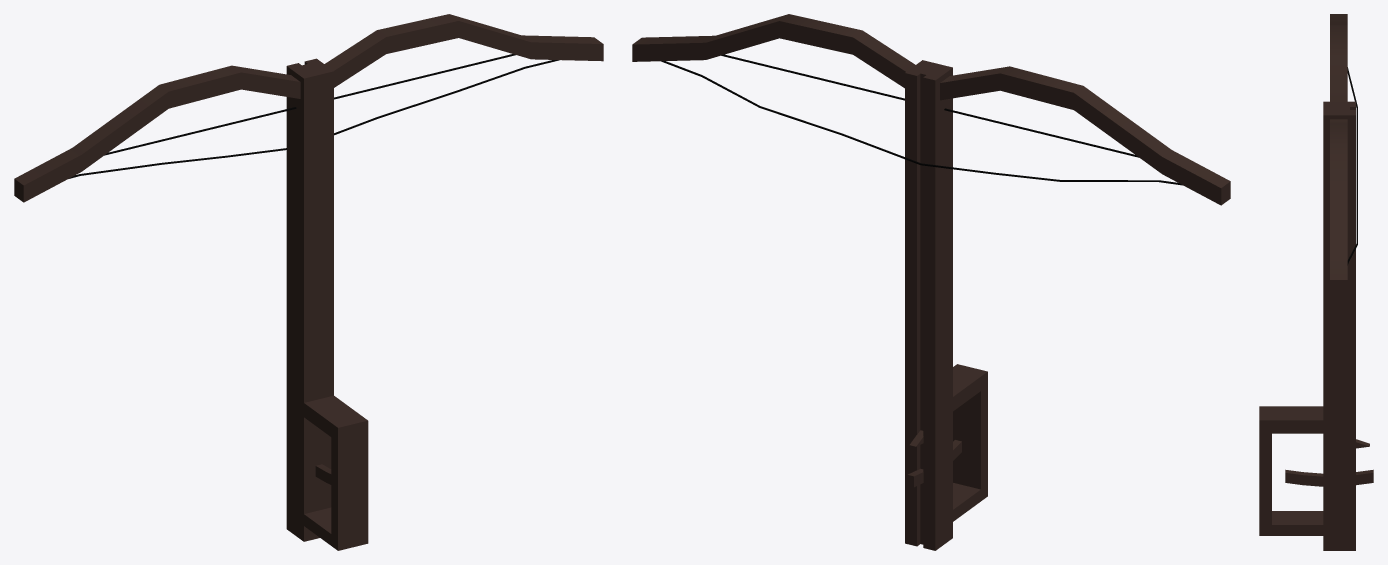
The picture shows the model from 3 angles, left to right: view 1: azimuth 30°, elevation 25°; view 2: azimuth 150°, elevation 25°; view 3: azimuth 270°, elevation 25°; orthographic projection. The views are drawn at different scales.
Visible parts, largest first — view 1: pCube4, pCube3, pCube8, pCube7; view 2: pCube4, pCube3, pCube8, pCube7; view 3: pCube4, pCube3, pCube5, pCube8.
Boxes of the visible parts, bbox=[...] form: pCube4: bbox=[286, 58, 368, 550]; pCube3: bbox=[14, 14, 603, 202]; pCube8: bbox=[69, 60, 559, 178]; pCube7: bbox=[104, 54, 515, 155]; pCube4: bbox=[905, 60, 987, 550]; pCube3: bbox=[632, 14, 1230, 205]; pCube8: bbox=[661, 61, 1182, 185]; pCube7: bbox=[721, 54, 1138, 157]; pCube4: bbox=[1259, 101, 1355, 550]; pCube3: bbox=[1330, 14, 1347, 295]; pCube5: bbox=[1285, 469, 1373, 486]; pCube8: bbox=[1347, 67, 1357, 265].
Size of the model in its own units: 6.09 by 4.83 by 1.11.
